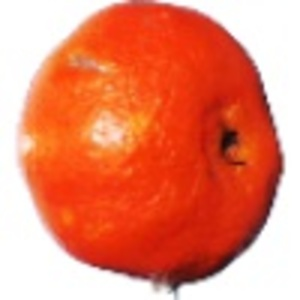tangerina: (15, 1, 287, 300)
